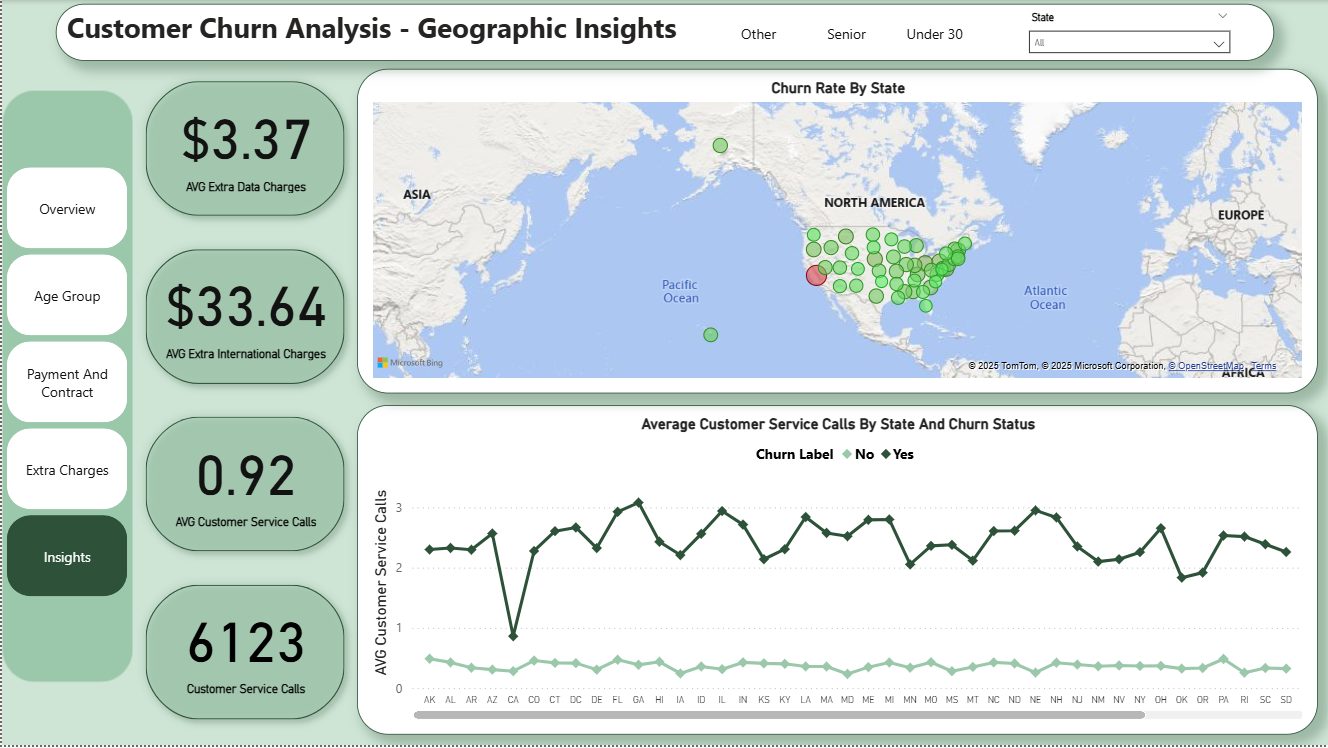

What the dashboard file says about the page in this screenshot:
{"tool":"powerbi","page":{"name":"Insights","canvas":[1280,720],"ordinal":4},"visuals":[{"type":"cardVisual","fields":{"Data":["Databel - Data.AVG Extra Data Charges","Databel - Data.AVG Extra International Charges","Databel - Data.AVG Customer Service Calls","Sum(Databel - Data.Customer Service Calls)"]},"box":[126.8,66.4,216.1,643.5],"z":0},{"type":"lineChart","title":"Average Customer Service Calls By State And Churn Status","fields":{"Y":["Databel - Data.AVG Customer Service Calls"],"Category":["Databel - Data.State"],"Series":["Databel - Data.Churn Label"]},"box":[342.9,391.2,928.4,318.7],"z":1000},{"type":"map","title":"Churn Rate By State","fields":{"Category":["Databel - Data.State"],"Size":["Databel - Data.Churn Rate"]},"box":[342.9,66.4,928.4,313.9],"z":2000},{"type":"textbox","box":[51.9,3.6,1177.1,55.5],"z":3000},{"type":"slicer","fields":{"Values":["Databel - Data.State"]},"box":[981.5,9.7,210.1,44.7],"z":4000},{"type":"advancedSlicerVisual","fields":{"Values":["Databel - Data.Demographics"]},"box":[688.1,9.7,255.9,44.7],"z":5000},{"type":"shape","box":[0,86.9,126.8,572.2],"z":6001},{"type":"pageNavigator","box":[0,156.9,126.8,426.2],"z":6002},{"type":"actionButton","box":[0,160.6,126.8,79.7],"z":6003},{"type":"actionButton","box":[0,246.3,126.8,79.7],"z":6004},{"type":"actionButton","box":[0,330.8,126.8,79.7],"z":6005},{"type":"actionButton","box":[0,415.3,126.8,79.7],"z":6006},{"type":"actionButton","box":[0,503.4,126.8,79.7],"z":6007}]}

Visuals, with their boxes in screenshot pixels (x1, y1, x2, y2), scaled from the page's 1280x720 canvas onto the 1328x748 screenshot:
cardVisual - Databel - Data.AVG Extra Data Charges x Databel - Data.AVG Extra International Charges: bbox(132, 69, 356, 738)
"Average Customer Service Calls By State And Churn Status" lineChart: bbox(356, 406, 1319, 738)
"Churn Rate By State" map: bbox(356, 69, 1319, 395)
textbox: bbox(54, 4, 1275, 61)
slicer - Databel - Data.State: bbox(1018, 10, 1236, 57)
advancedSlicerVisual - Databel - Data.Demographics: bbox(714, 10, 979, 57)
shape: bbox(0, 90, 132, 685)
pageNavigator: bbox(0, 163, 132, 606)
actionButton: bbox(0, 167, 132, 250)
actionButton: bbox(0, 256, 132, 339)
actionButton: bbox(0, 344, 132, 426)
actionButton: bbox(0, 431, 132, 514)
actionButton: bbox(0, 523, 132, 606)
